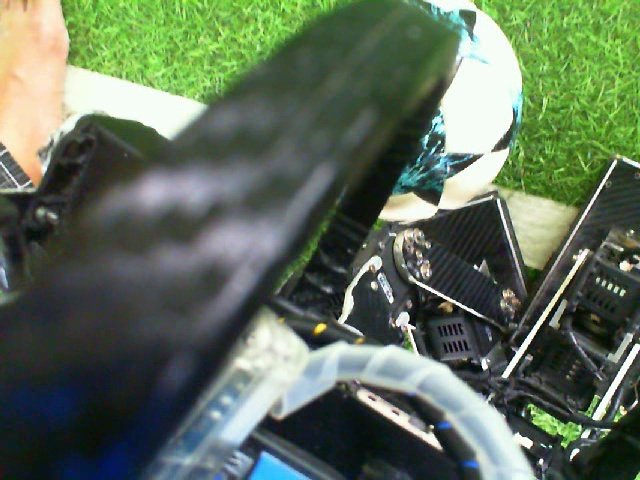ball: (365, 1, 525, 227)
